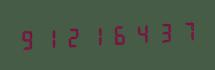four: (127, 18, 148, 47)
nine: (17, 24, 38, 53)
one: (39, 23, 60, 52), (83, 21, 104, 50)
seven: (171, 16, 192, 45)
six: (105, 20, 126, 48)
three: (149, 17, 170, 46)
two: (61, 22, 82, 51)
